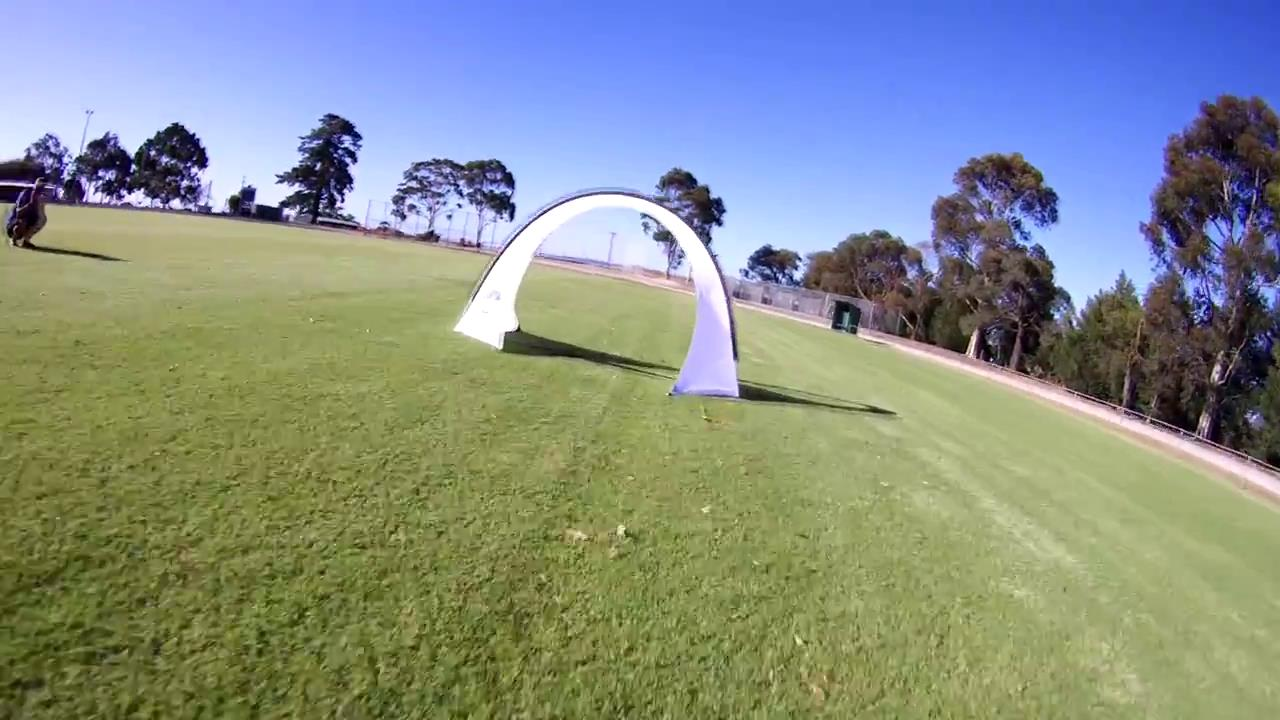gate: (448, 184, 745, 404)
